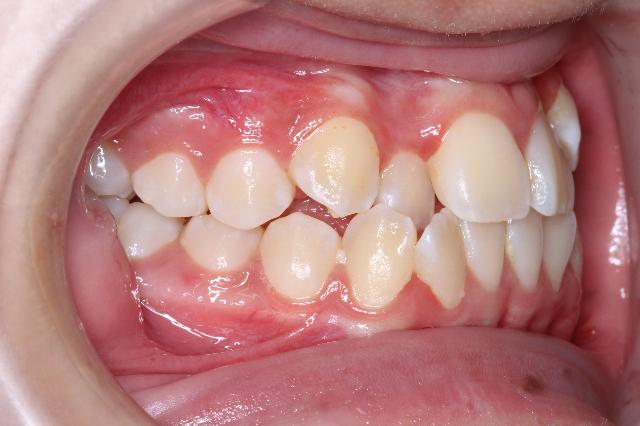canine class I: (258, 108, 418, 316)
